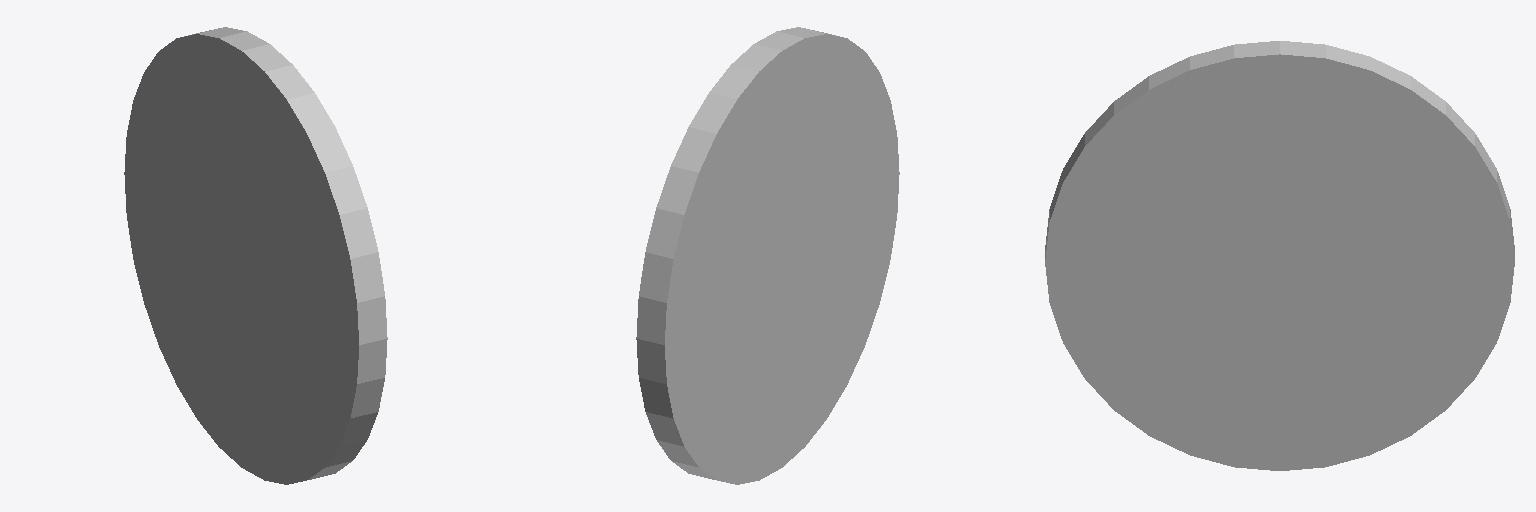
The model's file is HeaterDoor.obj.
3 renders of one model, left to right at view 1: azimuth 30°, elevation 25°; view 2: azimuth 150°, elevation 25°; view 3: azimuth 270°, elevation 25°, orthographic.
Visible parts, largest first — view 1: 柱体.235; view 2: 柱体.235; view 3: 柱体.235.
Boxes of the visible parts, x1=… form: 柱体.235: x1=124, y1=27, x2=387, y2=484; 柱体.235: x1=636, y1=27, x2=899, y2=484; 柱体.235: x1=1045, y1=41, x2=1514, y2=470.
Size of the model in its own units: 0.2 by 2.82 by 2.88.